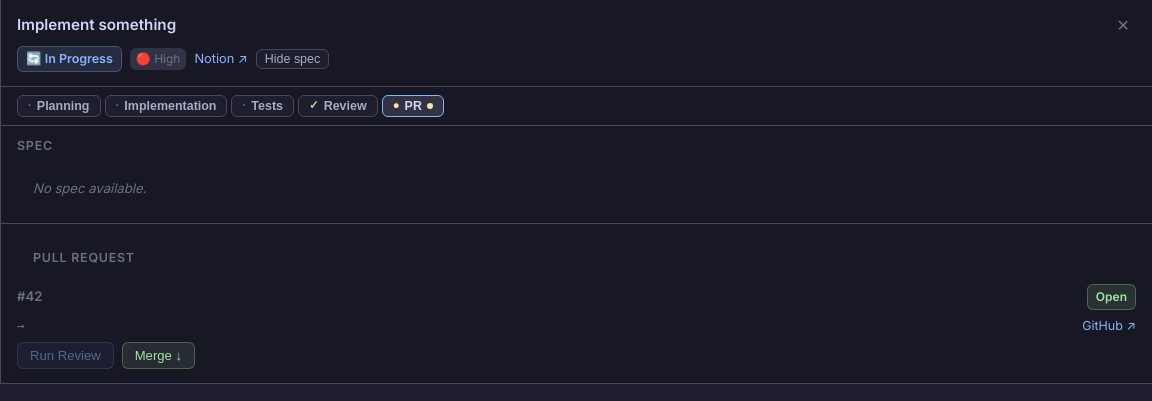
Test: TaskDetail › shows REVIEW content only when the review stage is selected, PULL REQUEST only when the pr stage is selected
Expected: the text "#42" is shown, [17,286,42,308]
Click the tab with test id "stage-chip-review". click: (338, 106)
box: [298,95,378,118]
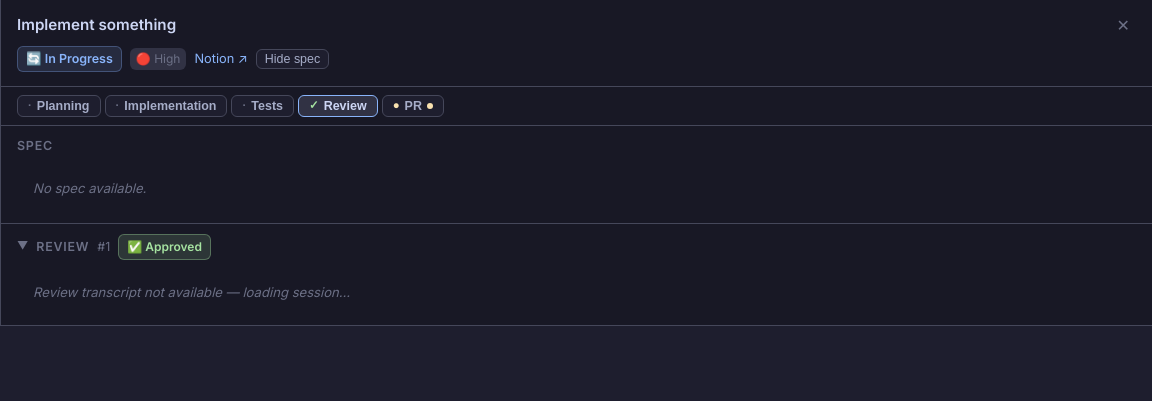
Expected: the element with test id "review-session-section" is shown, [1,224,1151,326]
Expected: the text "✅ Approved" is shown, [118,234,211,260]
Expected: the text "#42" is gone
Click the tab with test id "stage-chip-pr". click: (413, 106)
box: [382,95,444,118]
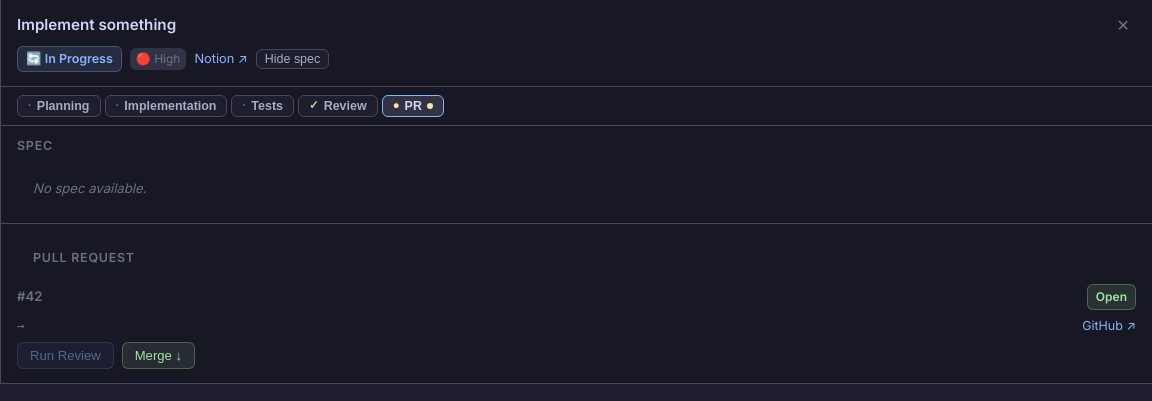
Expected: the text "#42" is shown, [17,286,42,308]
Expected: the element with test id "review-session-section" is gone
